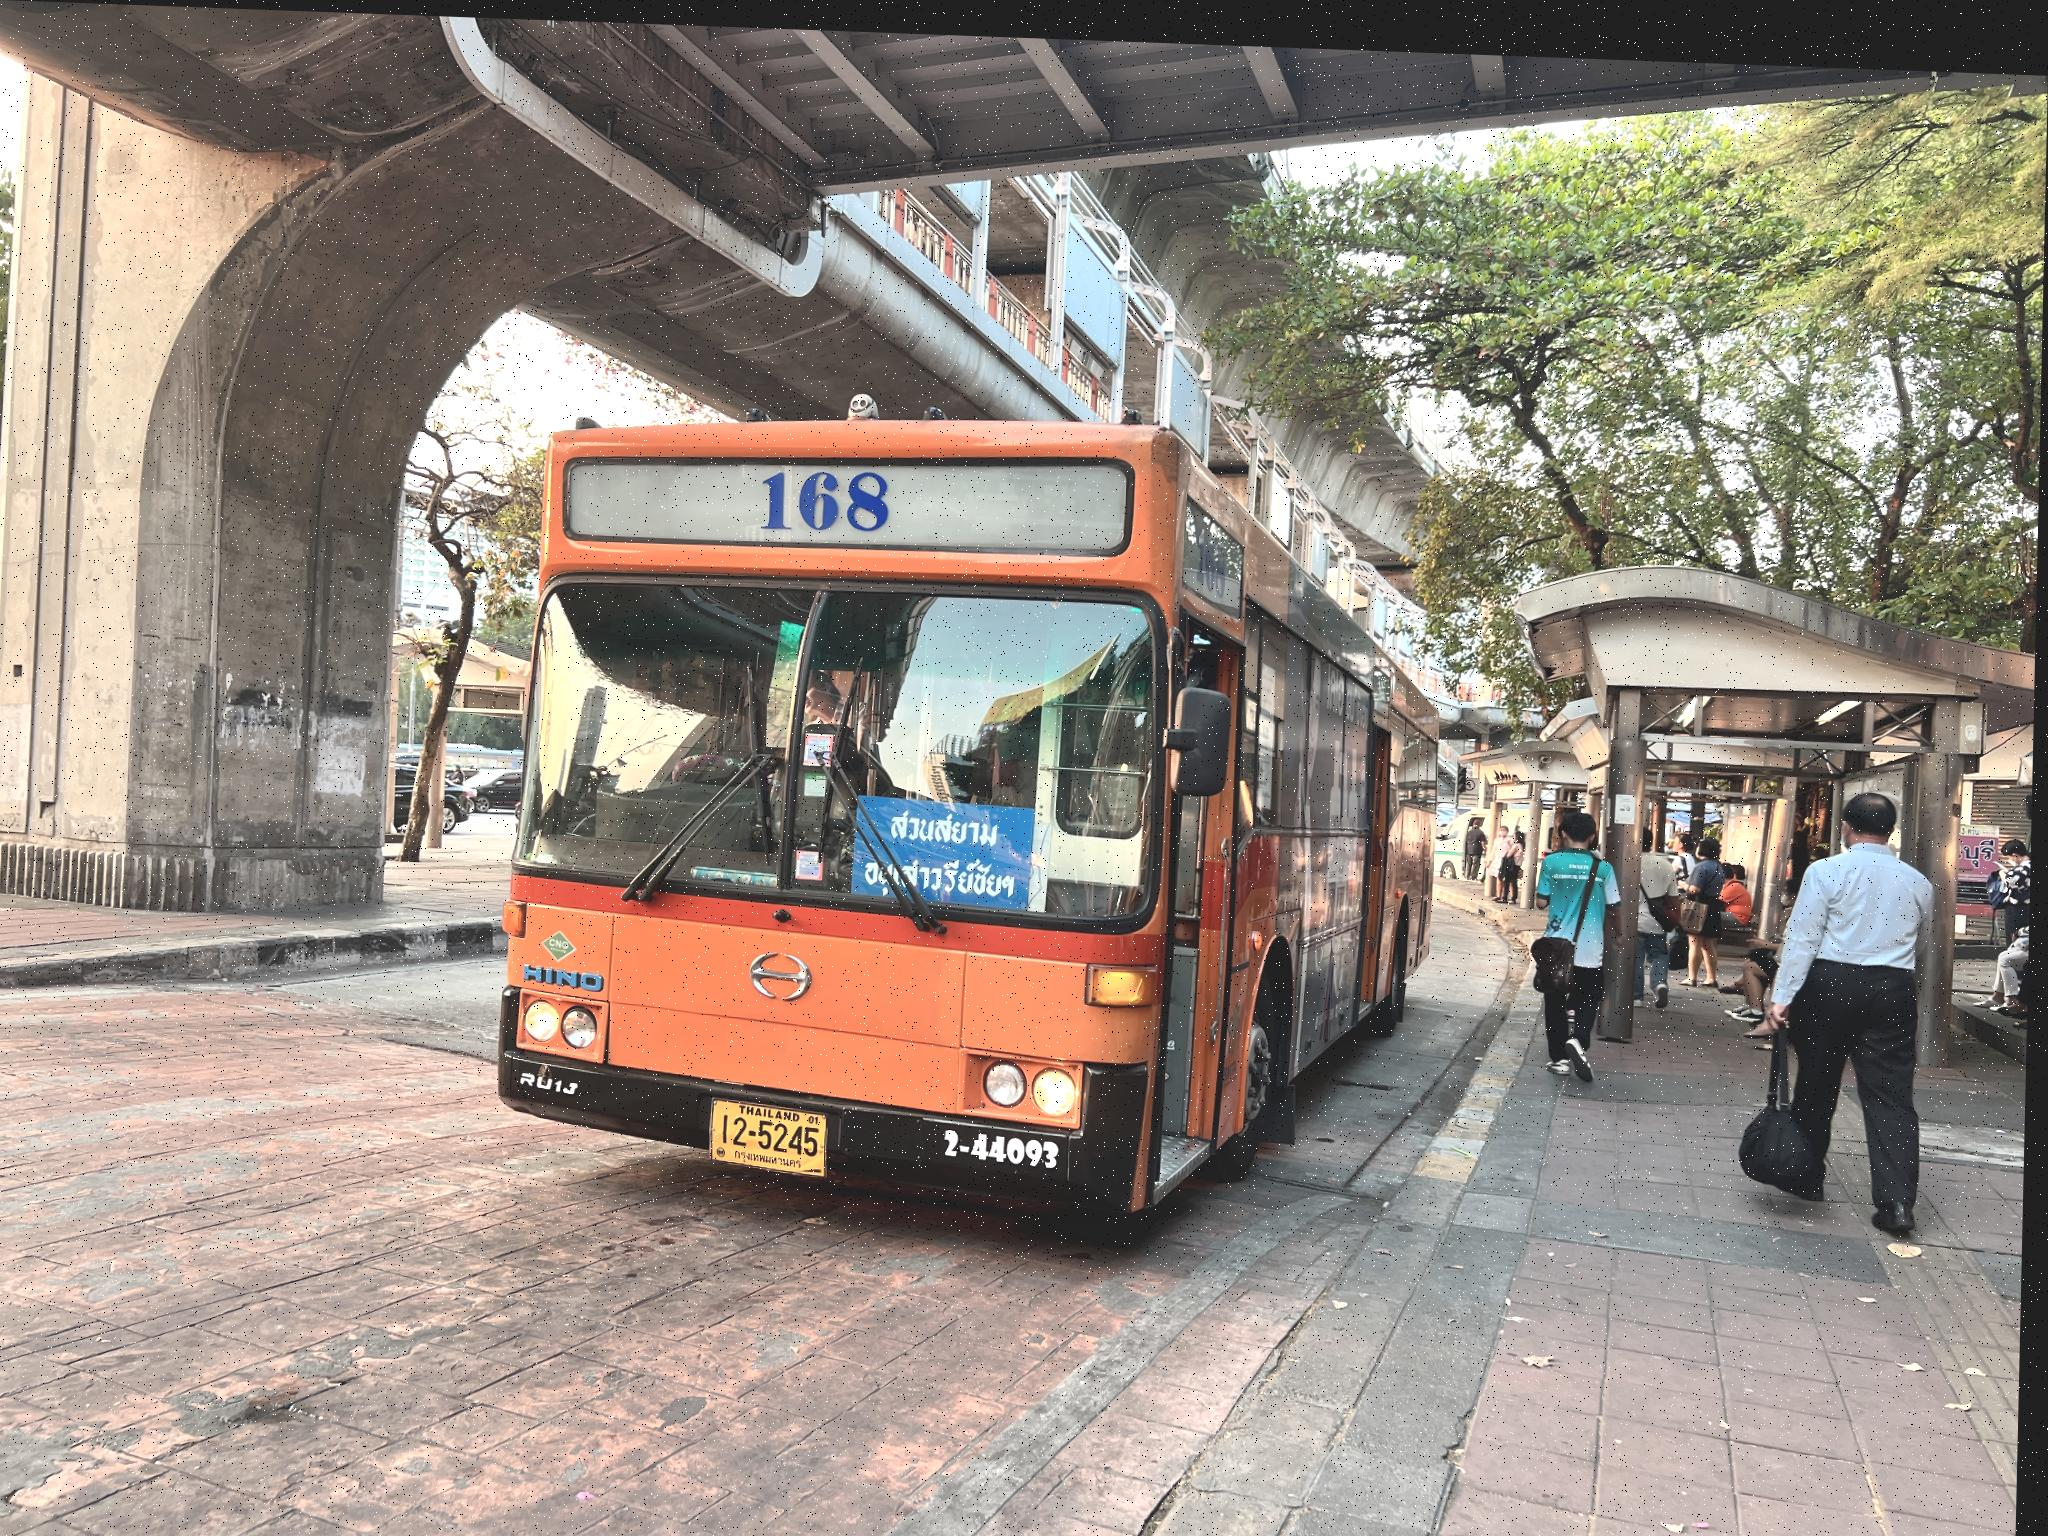BMTA-bus: (495, 413, 1438, 1212)
Bus Line Number: (735, 453, 924, 537)
Bus Side Number: (930, 1107, 1079, 1173)
Destination Sign: (861, 787, 1040, 908)
